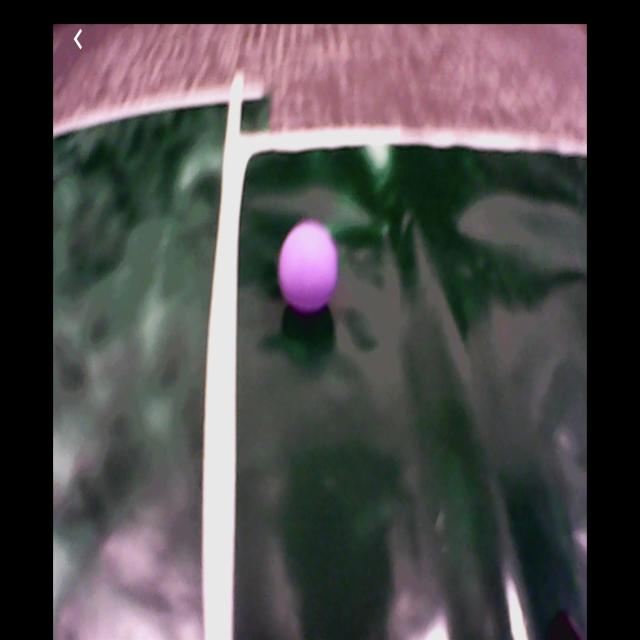ball: (277, 220, 337, 309)
